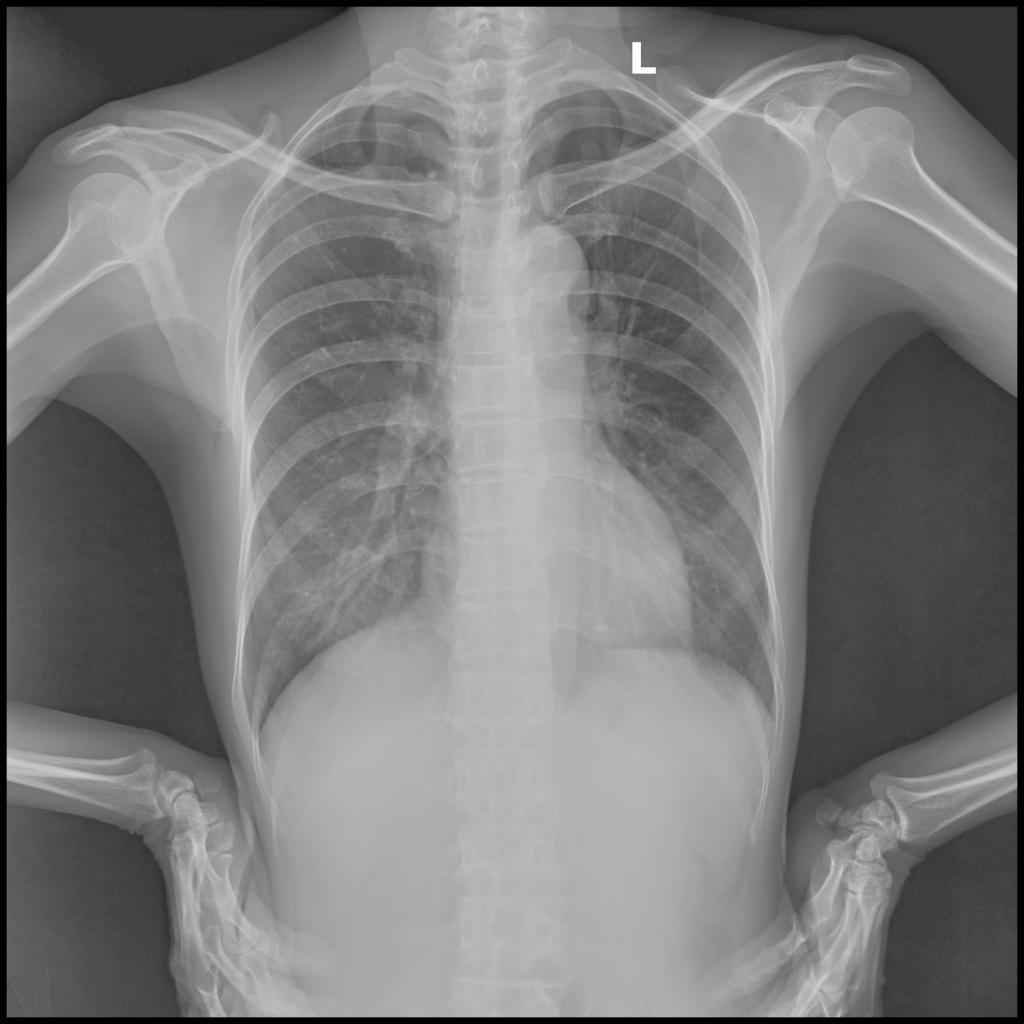Nodule: (580, 141, 605, 163), (427, 169, 439, 181)
